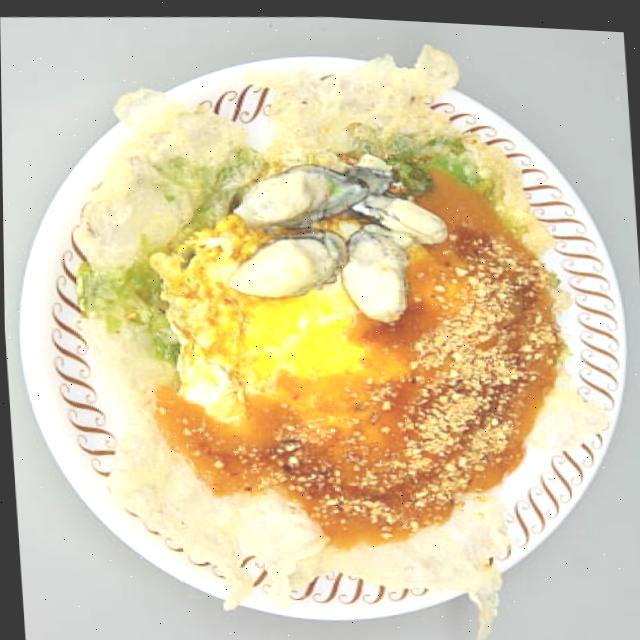熟制海鲜: (0, 16, 640, 640)
